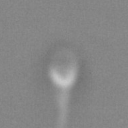normal: (53, 88, 74, 128)
